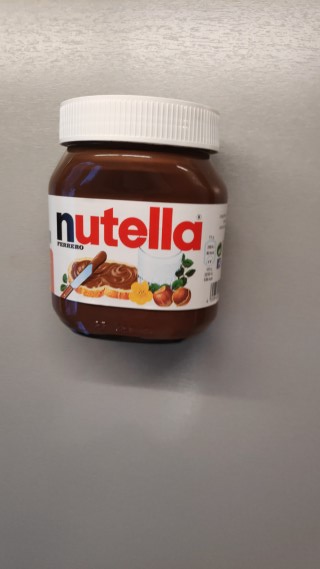nutella: (44, 89, 230, 346)
